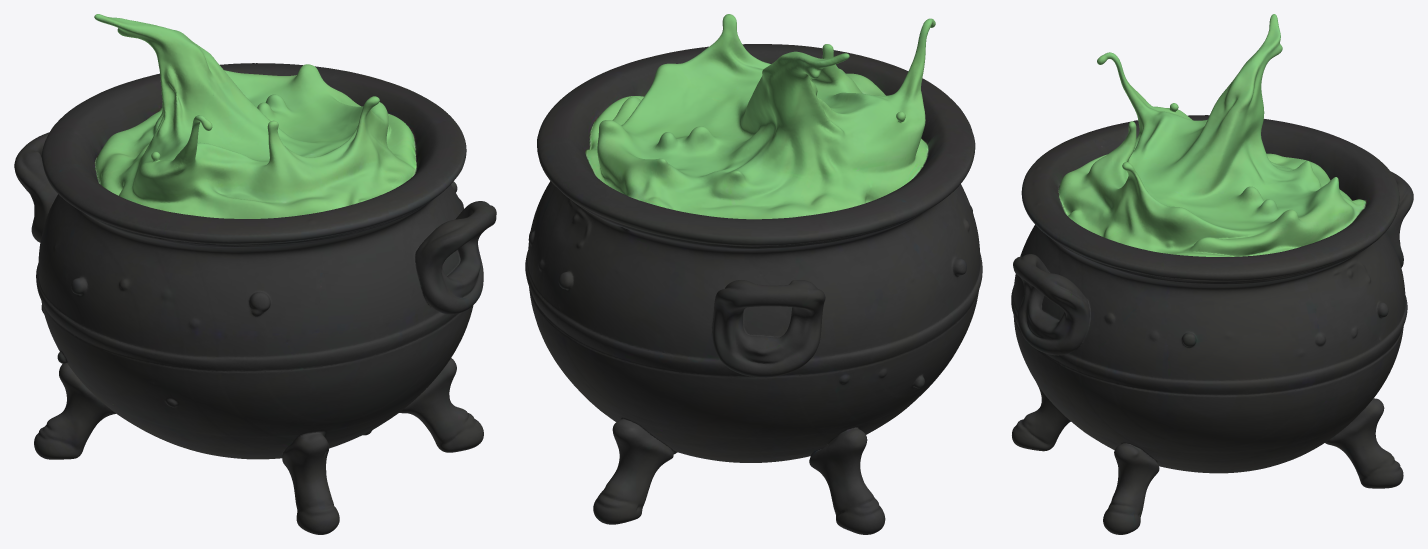
The model's file is detailed_realistic_model_potions_02.glb.
The picture shows the model from 3 angles, left to right: view 1: azimuth 30°, elevation 25°; view 2: azimuth 150°, elevation 25°; view 3: azimuth 270°, elevation 25°; orthographic projection. The views are drawn at different scales.
Visible parts, largest first — view 1: tripo_node_d1679512-9830-45a9-9927-e91267d4fa42; view 2: tripo_node_d1679512-9830-45a9-9927-e91267d4fa42; view 3: tripo_node_d1679512-9830-45a9-9927-e91267d4fa42.
Part boxes in pixels (left/top/right/bottom): tripo_node_d1679512-9830-45a9-9927-e91267d4fa42: left=14, top=14, right=496, bottom=534; tripo_node_d1679512-9830-45a9-9927-e91267d4fa42: left=525, top=14, right=982, bottom=534; tripo_node_d1679512-9830-45a9-9927-e91267d4fa42: left=1011, top=14, right=1413, bottom=534.
Size of the model in its own units: 0.9006 by 1 by 0.9076.
Materials: 1 (1 with a texture image).
